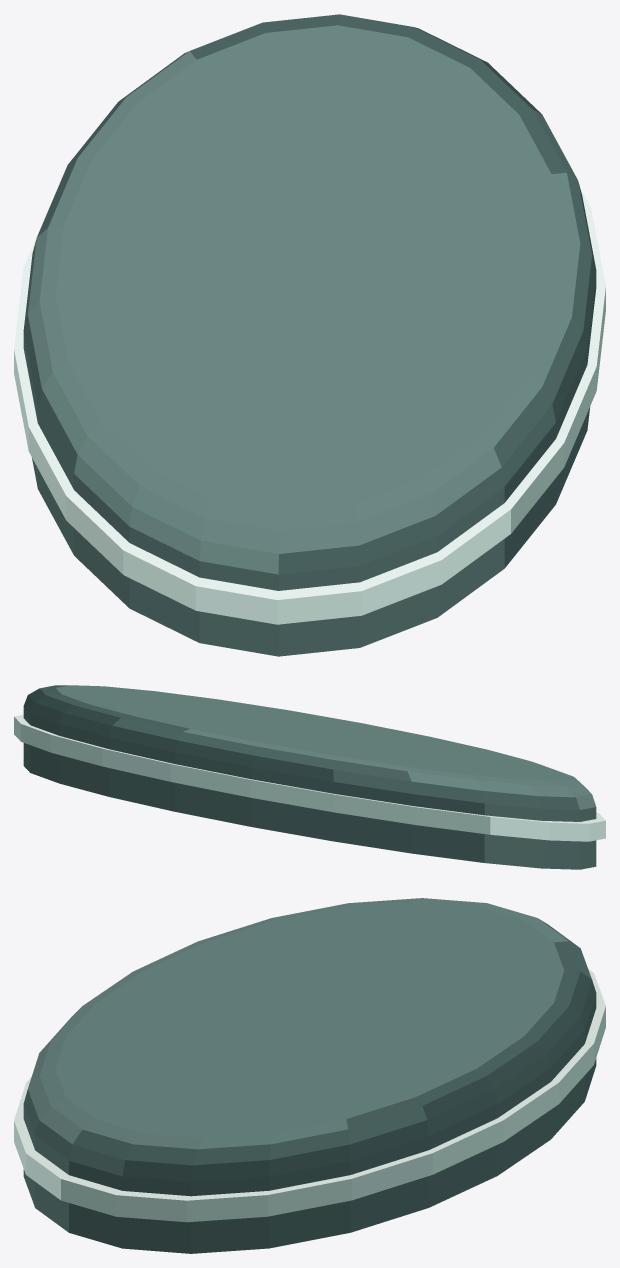
File: Button_ResetBase.gltf
3 views of the same model, one above another, from view 1: azimuth 30°, elevation 25°; view 2: azimuth 150°, elevation 25°; view 3: azimuth 270°, elevation 25° (orthographic). The views are drawn at different scales.
Parts seen in each view (by area): view 1: Button_ResetBase_baked; view 2: Button_ResetBase_baked; view 3: Button_ResetBase_baked.
Boxes of the visible parts, box(x1,y1,x2,y2) form: Button_ResetBase_baked: box(14, 14, 605, 656); Button_ResetBase_baked: box(14, 685, 605, 869); Button_ResetBase_baked: box(14, 898, 605, 1253).
Size of the model in its own units: 0.8004 by 0.4146 by 0.744.
